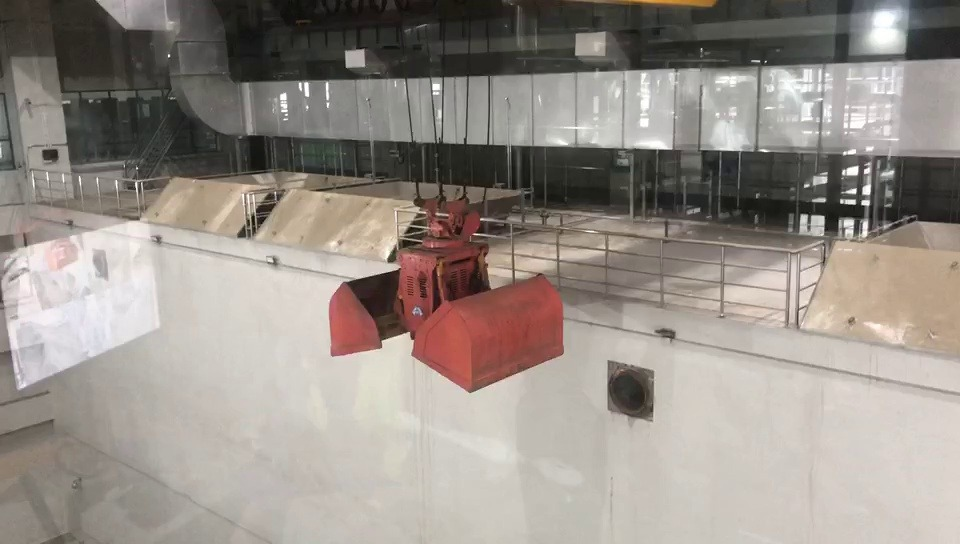grab: (325, 184, 571, 395)
